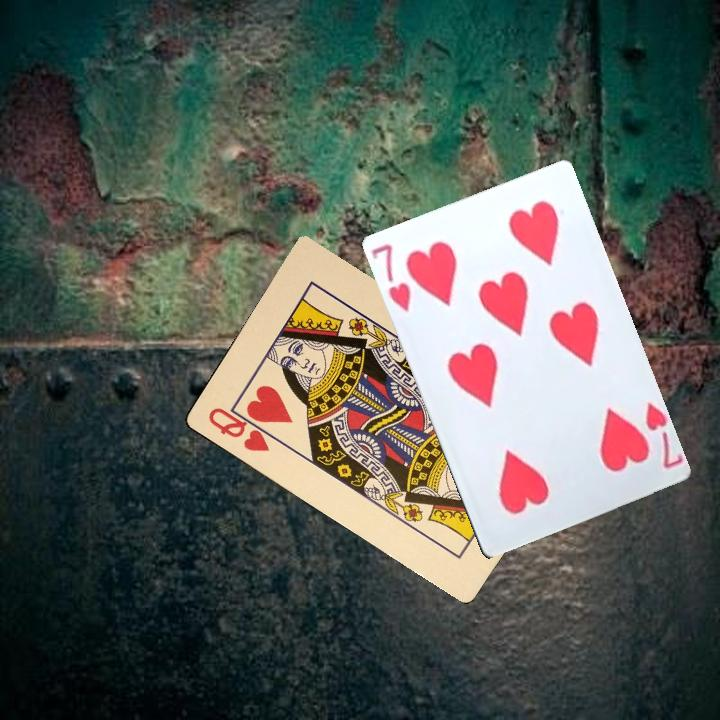7h: (367, 239, 414, 314), (641, 398, 683, 472)
Qh: (203, 403, 280, 455)
